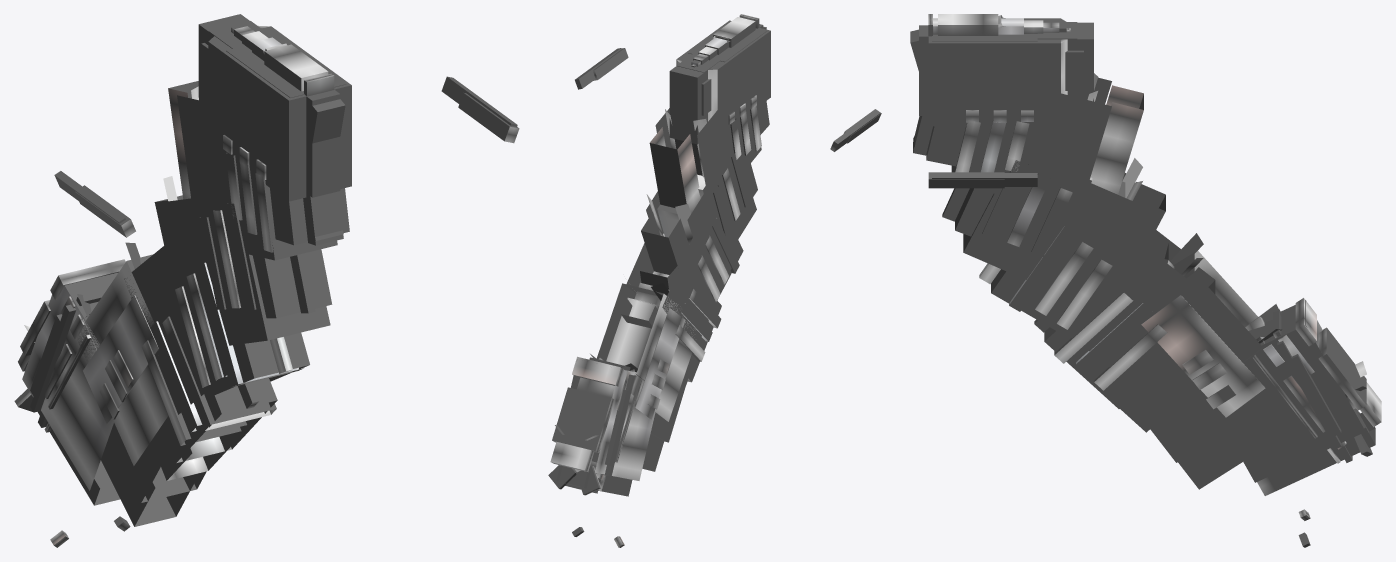
Rendered from ak47_mag_v3.glb.
3 renders of one model, left to right at view 1: azimuth 30°, elevation 25°; view 2: azimuth 150°, elevation 25°; view 3: azimuth 270°, elevation 25°, orthographic. The views are drawn at different scales.
Parts seen in each view (by area): view 1: mag; view 2: mag; view 3: mag.
Part boxes in pixels (left/top/right/bottom): mag: left=14, top=14, right=519, bottom=547; mag: left=548, top=14, right=881, bottom=547; mag: left=910, top=14, right=1381, bottom=547.
Bounding box in the file's own units: 0.1644 × 0.2479 × 0.2054.
1 material, 1 textured.
